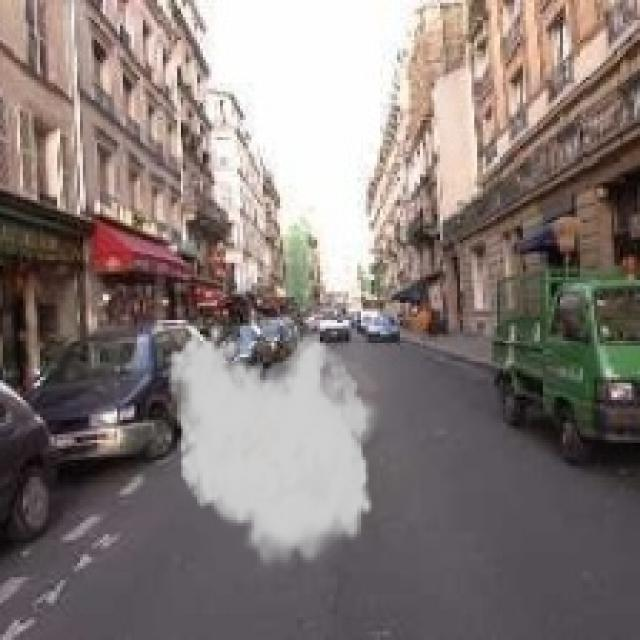smoke: (166, 323, 386, 574)
